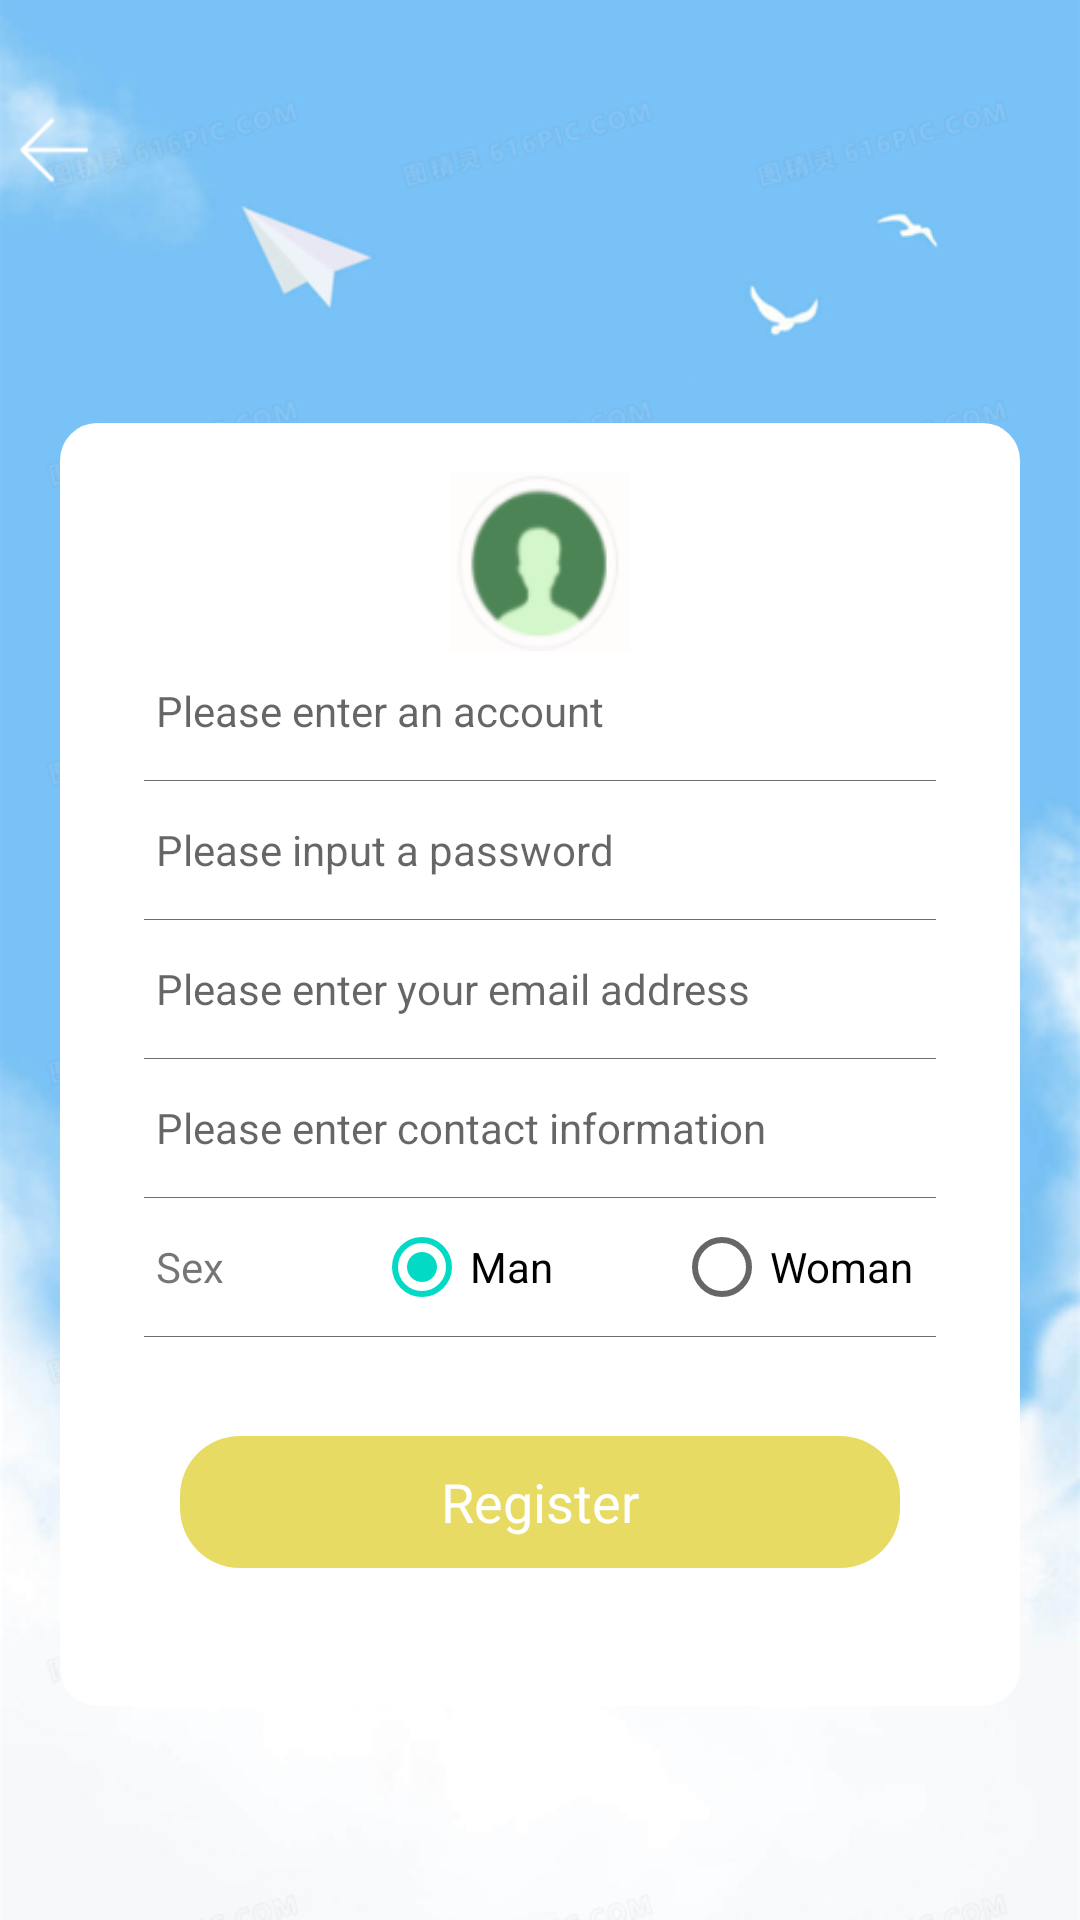

Screen size 1080px x 1920px. Icon name, then its center in pixels as (x=x, y=y):
back: (x=54, y=141)
login heard: (x=539, y=562)
